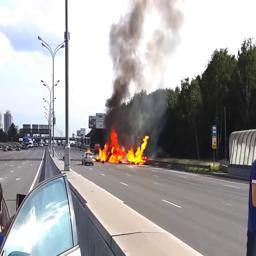fire: (98, 129, 149, 165)
